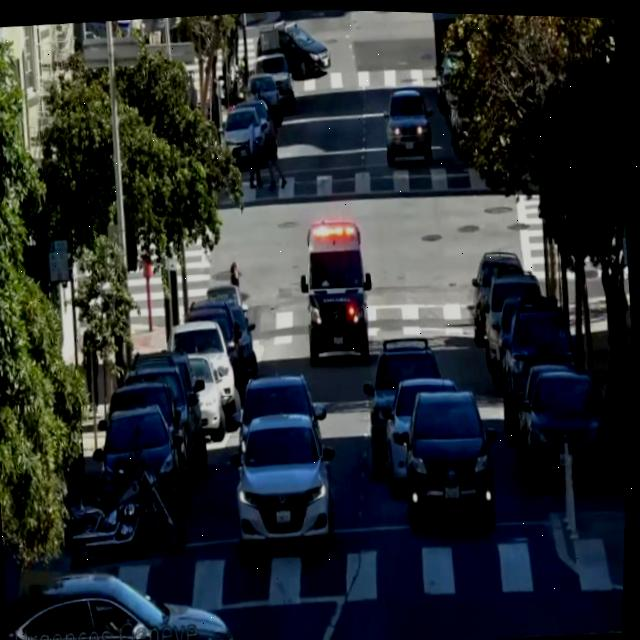emergency: (294, 214, 382, 363)
